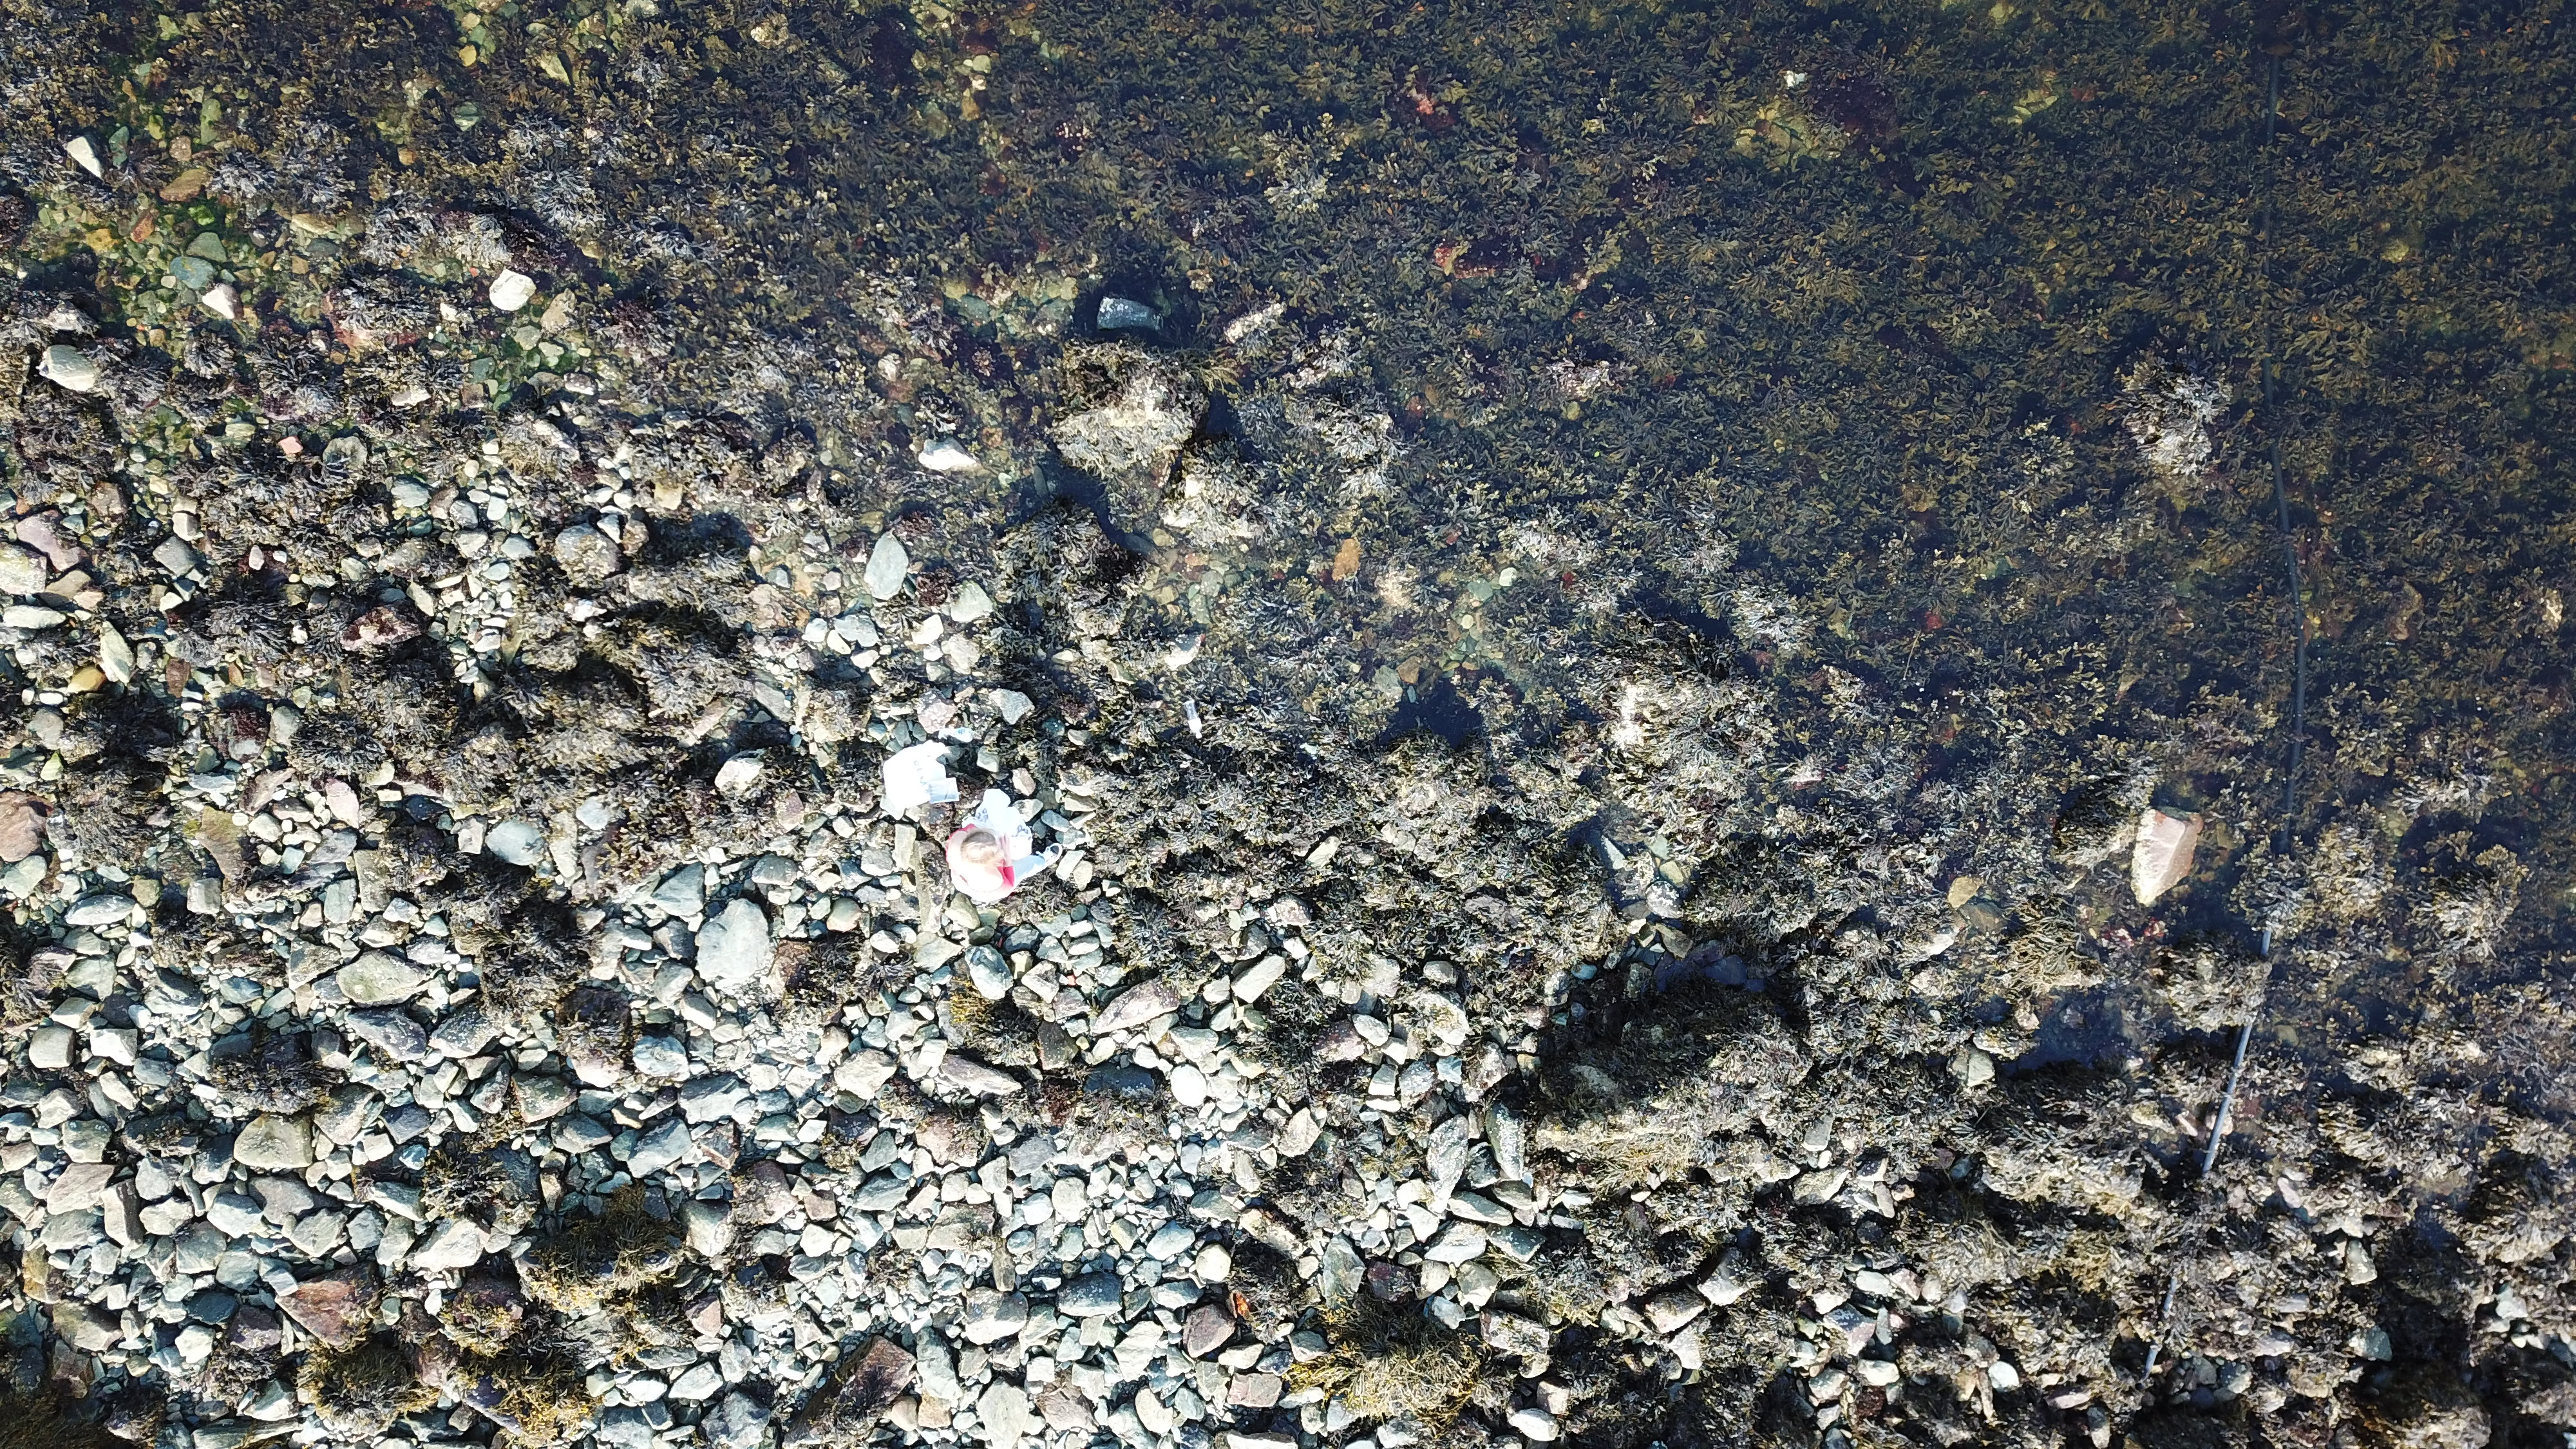Plastic: (881, 743, 948, 812), (977, 789, 1033, 856), (927, 777, 961, 805), (938, 725, 975, 743)
PlasticBottle: (1184, 697, 1203, 741)
